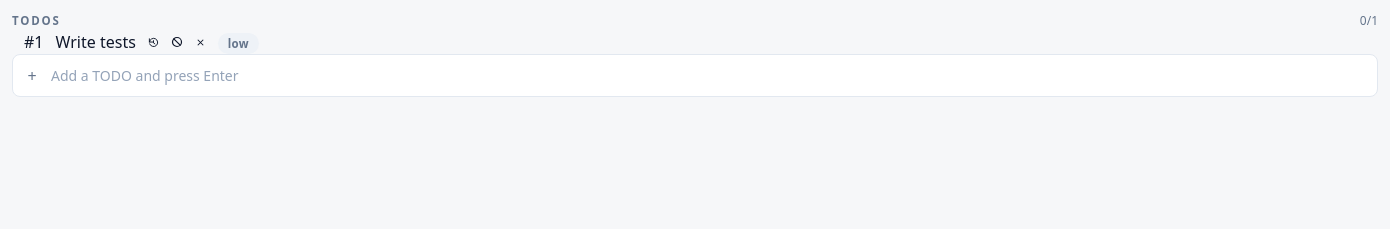
Test: TodosSection blocked tasks › Block button › a failed block re-opens the input with the typed text, shows an alert and keeps the message plain
The width and height of the screenshot is (1390, 229).
Click the button named "Block" at point(177, 42), box 171,36 -> 183,48
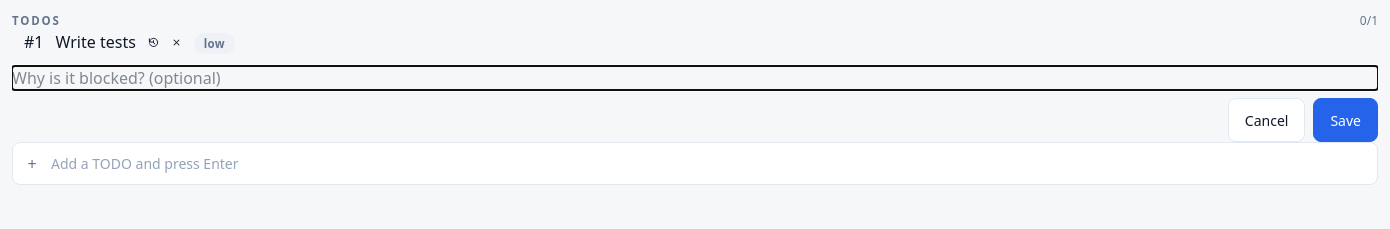
Type "Waiting on Sam" into the field named "Blocked reason, optional" at point(695, 78), box 12,66 -> 1378,90
Then press Enter
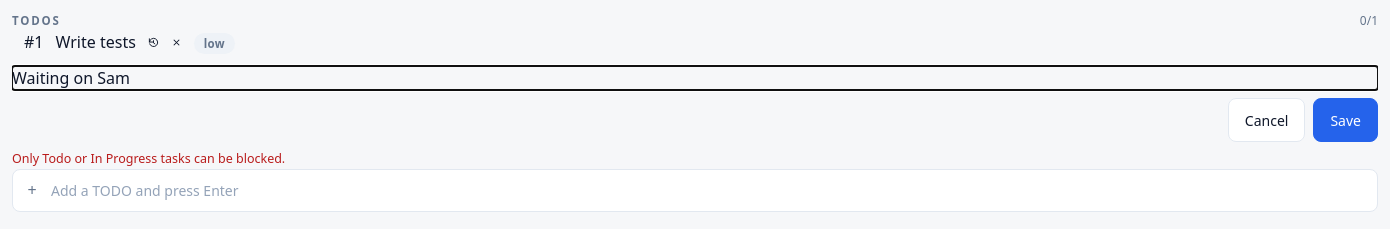
Result: the field named "Blocked reason, optional" holds "Waiting on Sam" at 12,66 -> 1378,90
Result: the message reads "Only Todo or In Progress tasks can be blocked." at 12,150 -> 285,167
